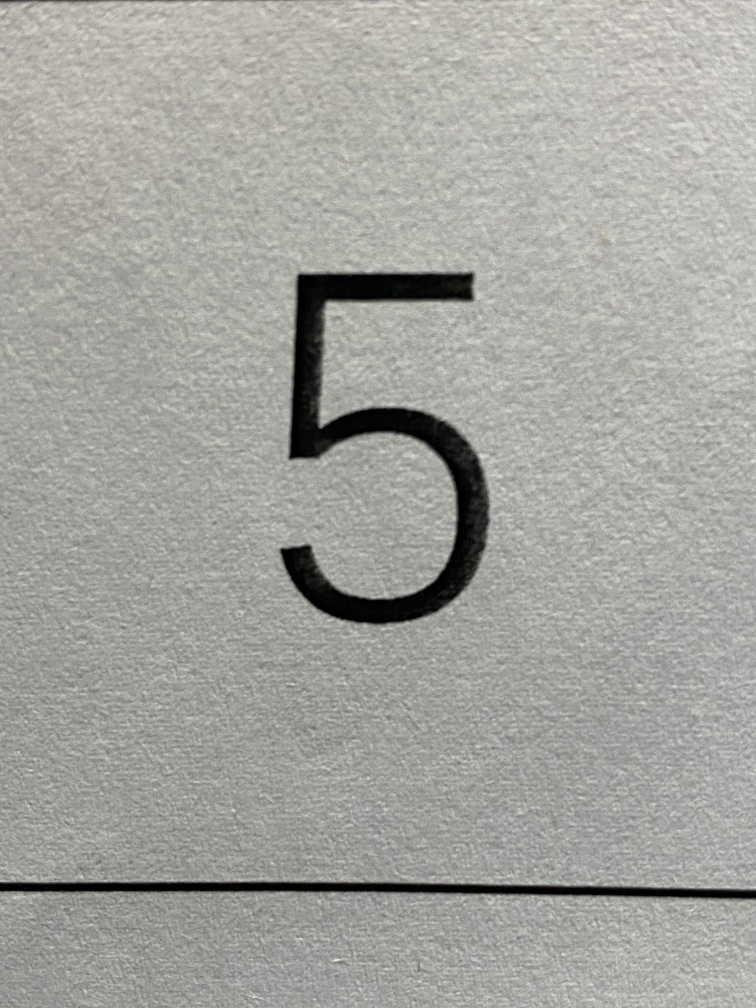five: (202, 168, 577, 711)
